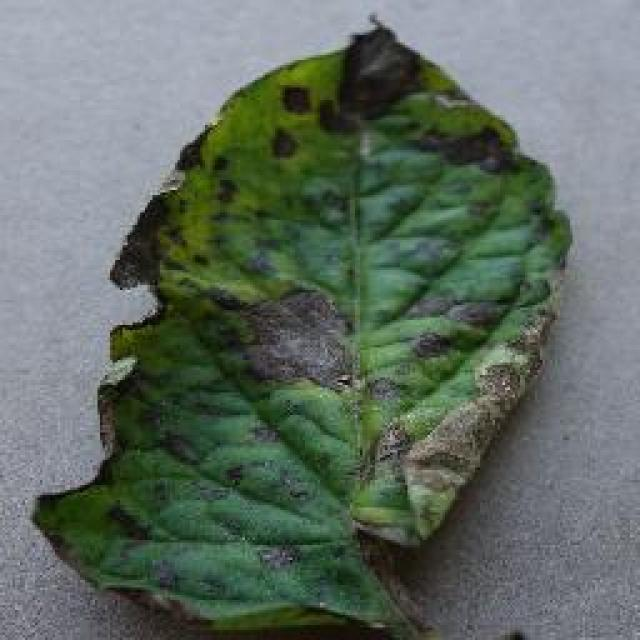Tomato___Early_blight: (25, 24, 573, 637)
